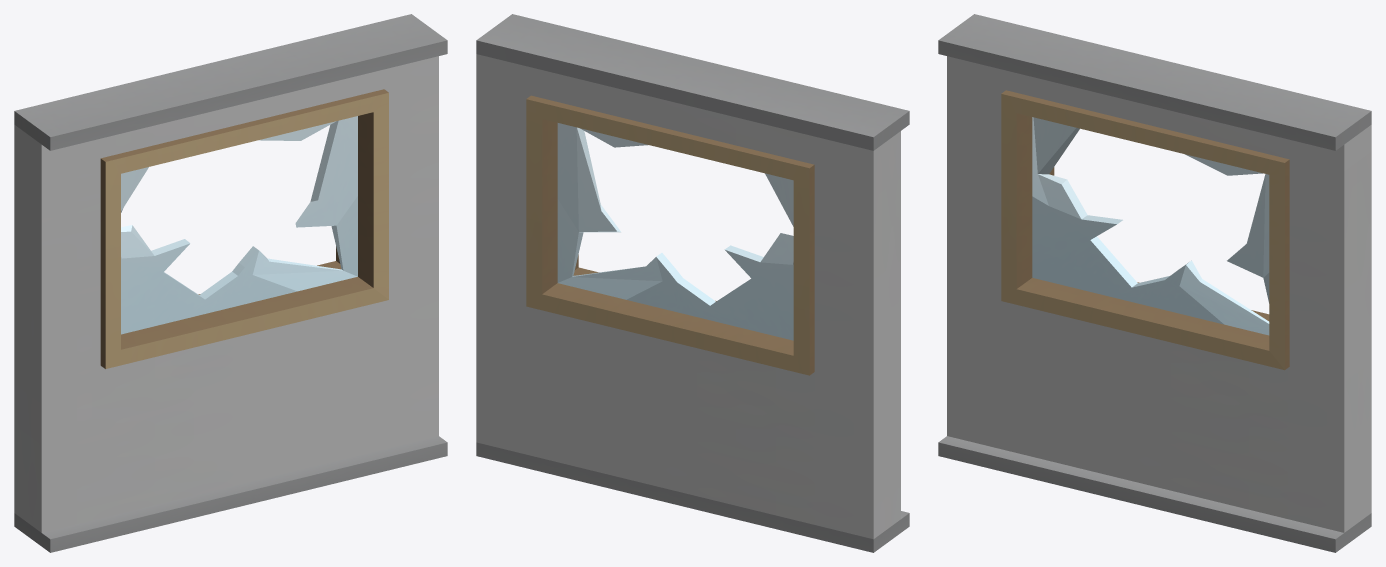
Rendered from wall_1_window_2.glb.
3 views of the same model, side by side, from view 1: azimuth 30°, elevation 25°; view 2: azimuth 150°, elevation 25°; view 3: azimuth 330°, elevation 25° (orthographic).
Parts seen in each view (by area): view 1: wall_1_window_2; view 2: wall_1_window_2; view 3: wall_1_window_2.
Boxes of the visible parts, box(x1,y1,x2,y2) form: wall_1_window_2: box(14, 14, 447, 552); wall_1_window_2: box(476, 14, 909, 552); wall_1_window_2: box(938, 14, 1371, 552).
Size of the model in its own units: 2 by 2 by 0.3568.
1 material, 1 textured.
